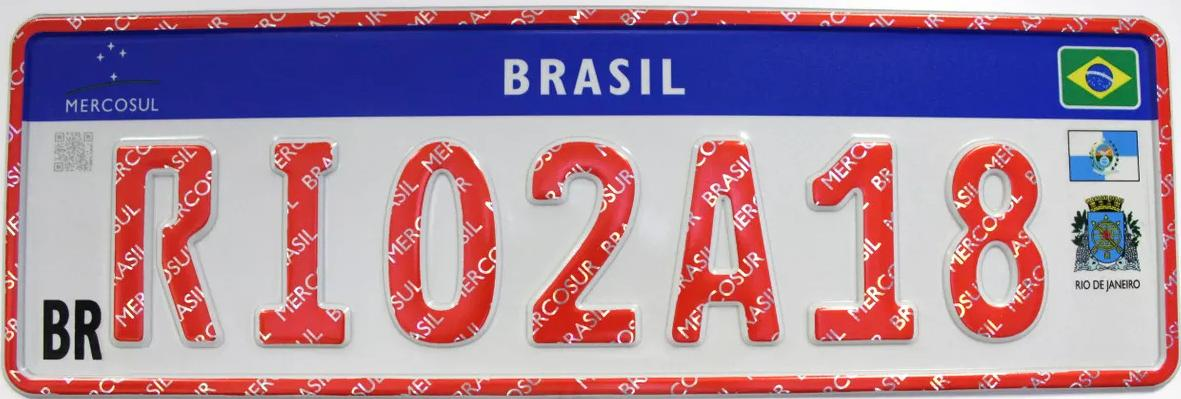Placa_mercosul_carro: (0, 0, 1179, 398)
